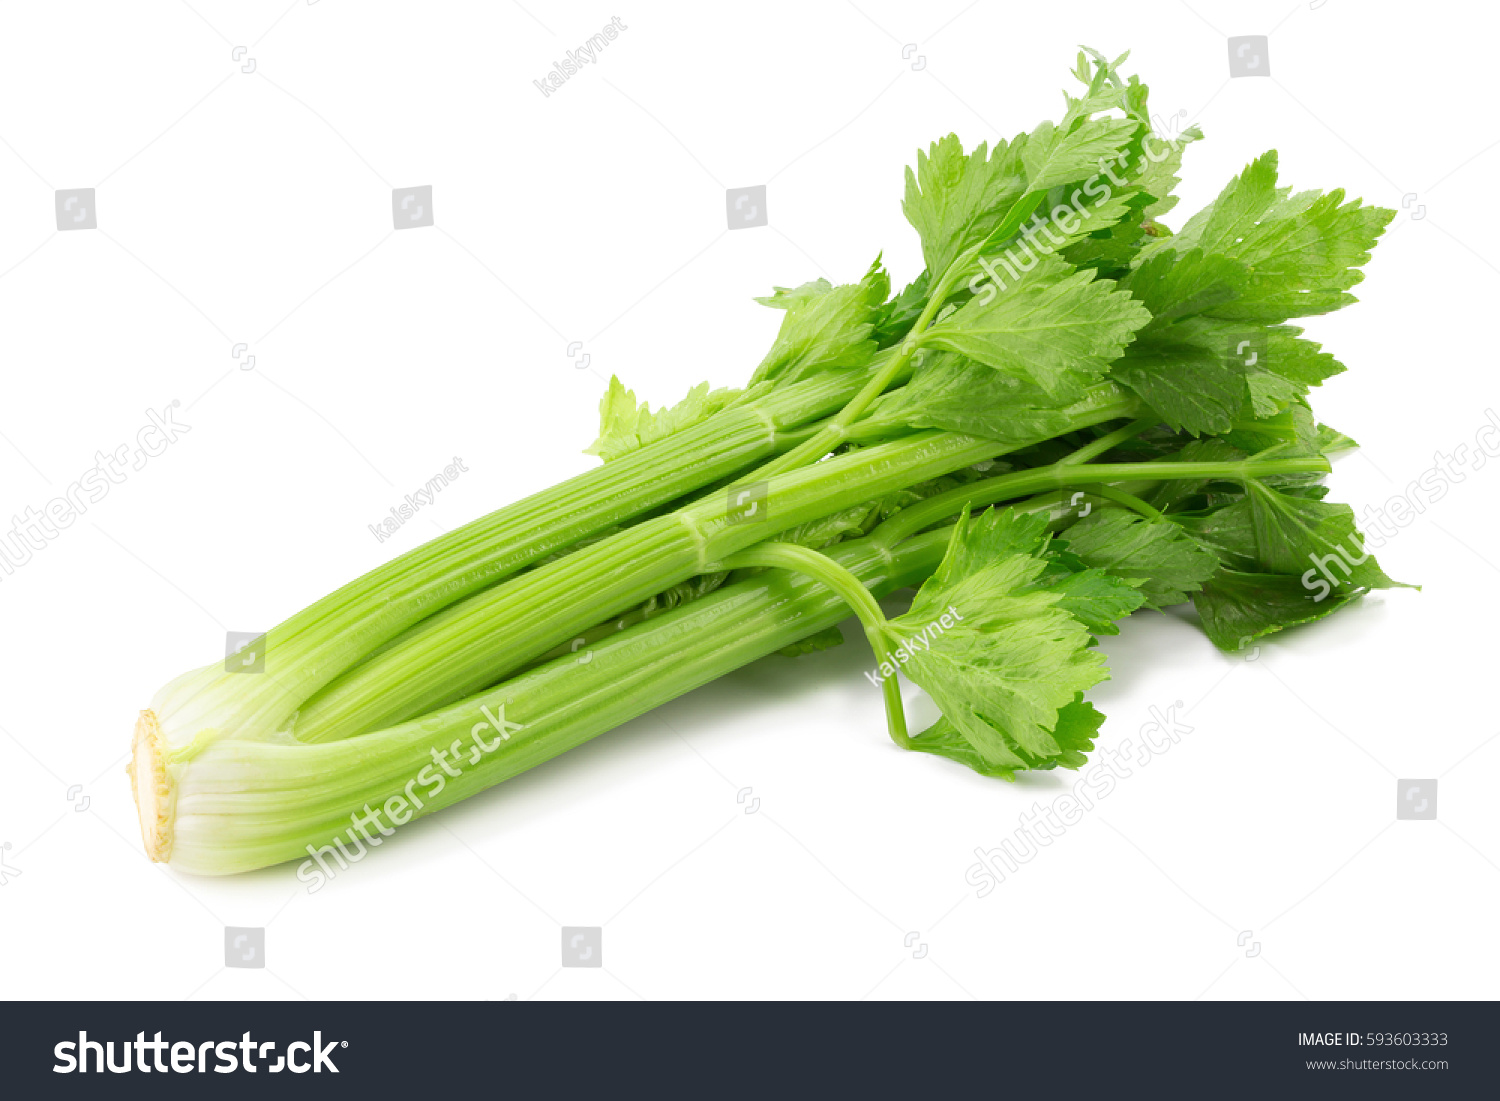Seledri: (215, 49, 1500, 995)
